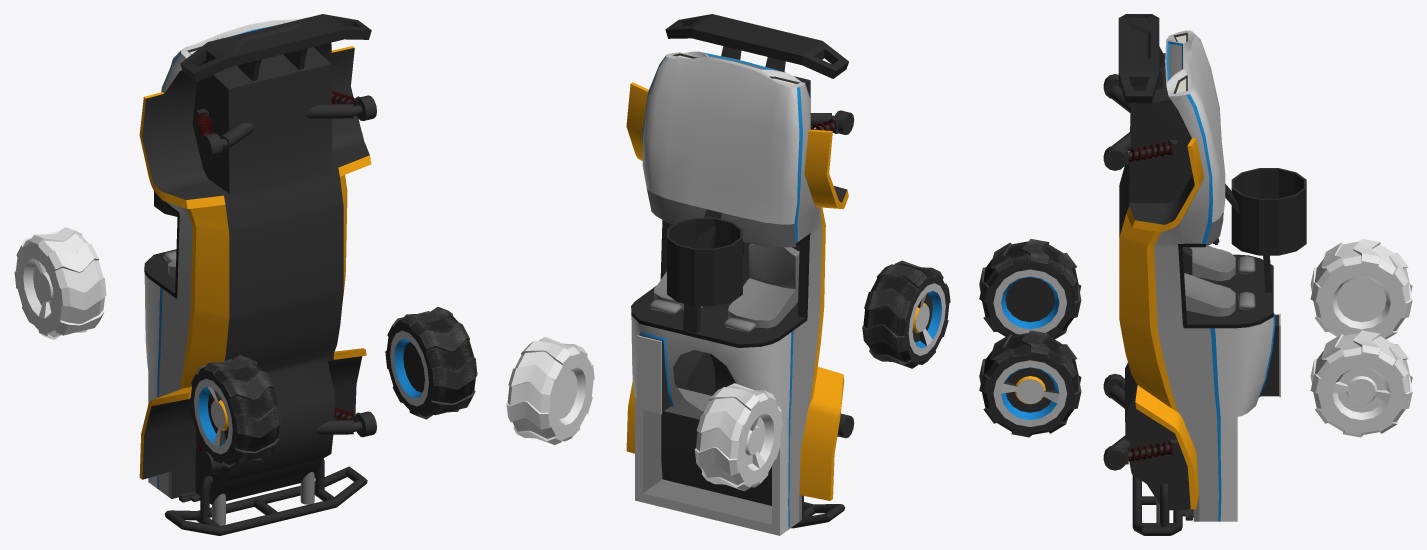
The model's file is AVBuggy.fbx.
3 views of the same model, side by side, from view 1: azimuth 30°, elevation 25°; view 2: azimuth 150°, elevation 25°; view 3: azimuth 270°, elevation 25° (orthographic). The views are drawn at different scales.
Visible parts, largest first — view 1: Body, WheelRR, WheelFR, WheelFL; view 2: Body, WheelFR, WheelRR, WheelRL, TurretMount; view 3: Body, WheelFL, WheelRL, WheelFR, WheelRR, TurretMount.
Boxes of the visible parts, bbox=[...] form: Body: bbox=[139, 14, 376, 535]; WheelRR: bbox=[14, 227, 106, 339]; WheelFR: bbox=[189, 355, 281, 467]; WheelFL: bbox=[385, 307, 477, 419]; Body: bbox=[626, 14, 854, 535]; WheelFR: bbox=[862, 260, 950, 368]; WheelRR: bbox=[694, 383, 782, 491]; WheelRL: bbox=[506, 337, 594, 444]; TurretMount: bbox=[667, 217, 742, 306]; Body: bbox=[1103, 14, 1280, 535]; WheelFL: bbox=[979, 330, 1081, 437]; WheelRL: bbox=[1310, 330, 1412, 437]; WheelFR: bbox=[979, 239, 1081, 339]; WheelRR: bbox=[1310, 239, 1412, 339]; TurretMount: bbox=[1231, 168, 1306, 255].
Size of the model in its own units: 317 by 613 by 523.
